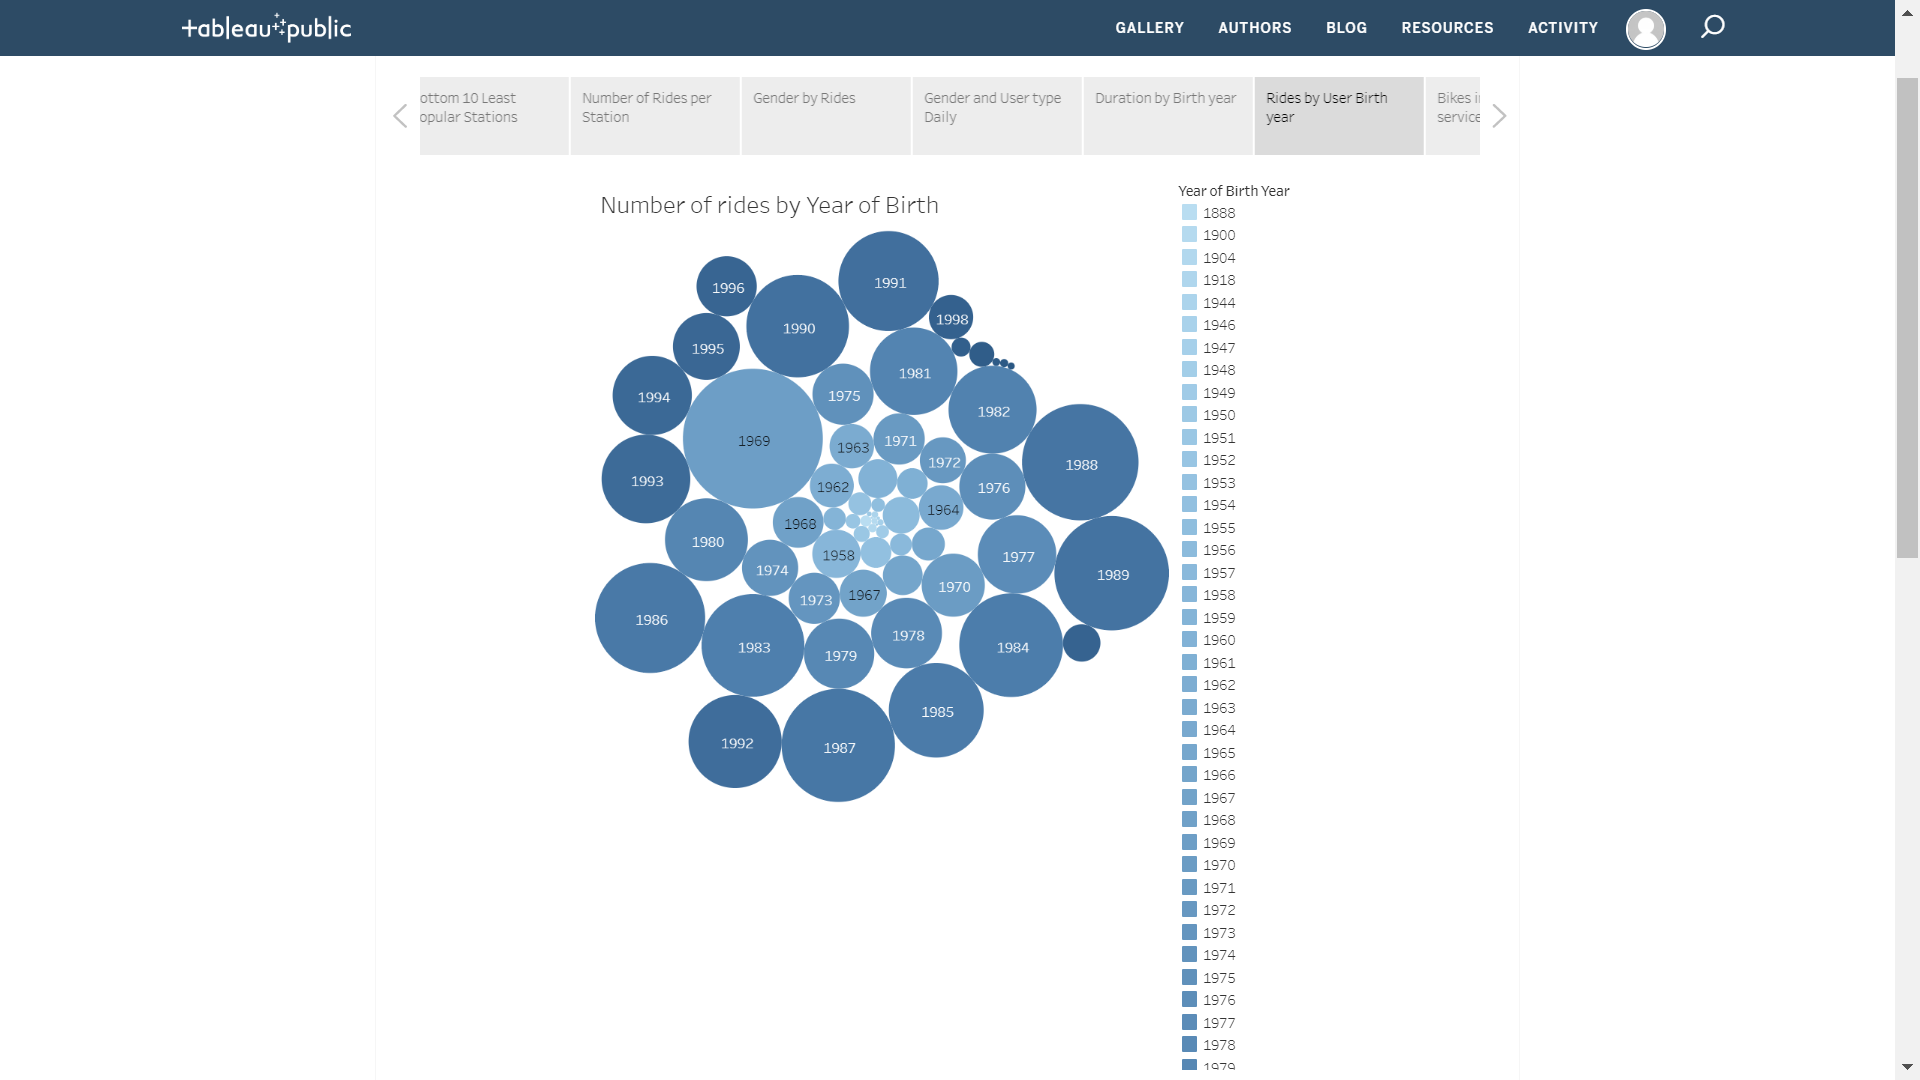

What the dashboard file says about the page in this screenshot:
{"tool":"tableau","page":{"name":"Rides by Birth year","canvas":[650,860],"ordinal":3},"visuals":[{"type":"worksheet","title":"Number of rides by Year of Birth ","mark":"Circle","box":[8,8,518,844]},{"type":"legend","title":"Number of rides by Year of Birth ","param":"[federated.0lgcoam1sk9f8z1covnh113q89xu].[yr:birth year:ok]","box":[526,8,116,844]}]}

Visuals, with their boxes on the page's 650x860 design canvas (x1, y1, x2, y2). These are canvas units, not pixel positions in the 1920x1080 screenshot, which may show the page scaled, cropped or inside an application window:
"Number of rides by Year of Birth " worksheet (Circle marks): x1=8 y1=8 x2=526 y2=852
"Number of rides by Year of Birth " legend: x1=526 y1=8 x2=642 y2=852
